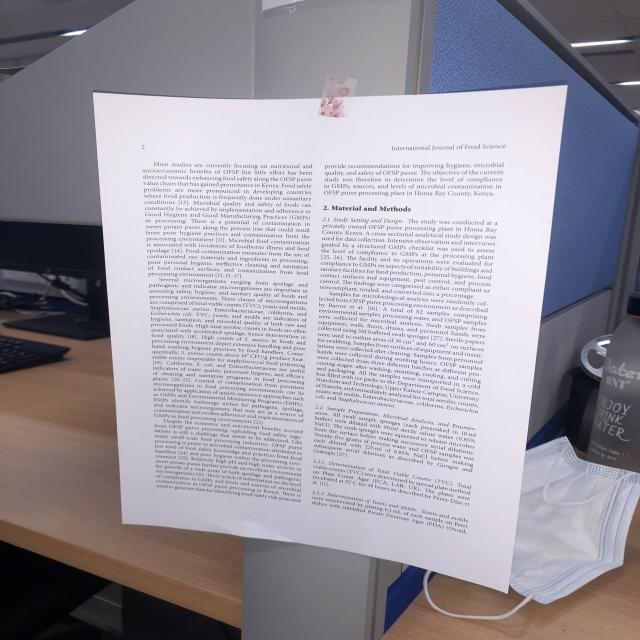document: (93, 86, 567, 590)
